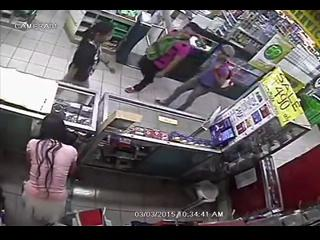Normal: (21, 114, 78, 225), (124, 27, 218, 94), (157, 63, 236, 112), (61, 20, 116, 88)
